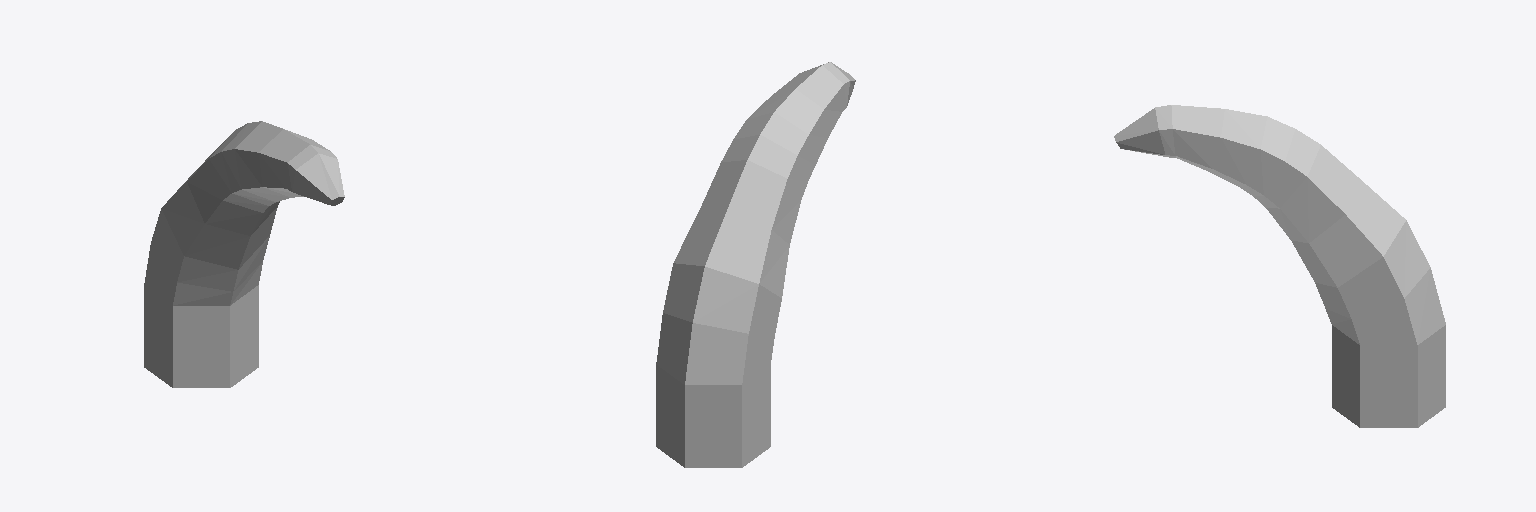
The model's file is thorn4.obj.
The picture shows the model from 3 angles: view 1: azimuth 30°, elevation 25°; view 2: azimuth 150°, elevation 25°; view 3: azimuth 270°, elevation 25°; orthographic projection.
Visible parts, largest first — view 1: thorn_Cylinder; view 2: thorn_Cylinder; view 3: thorn_Cylinder.
Boxes of the visible parts, x1,y1,x2,y2 form: thorn_Cylinder: [144, 121, 344, 387]; thorn_Cylinder: [656, 62, 855, 467]; thorn_Cylinder: [1114, 105, 1445, 427].
Bounding box in the file's own units: 0.9207 × 3.09 × 3.08.